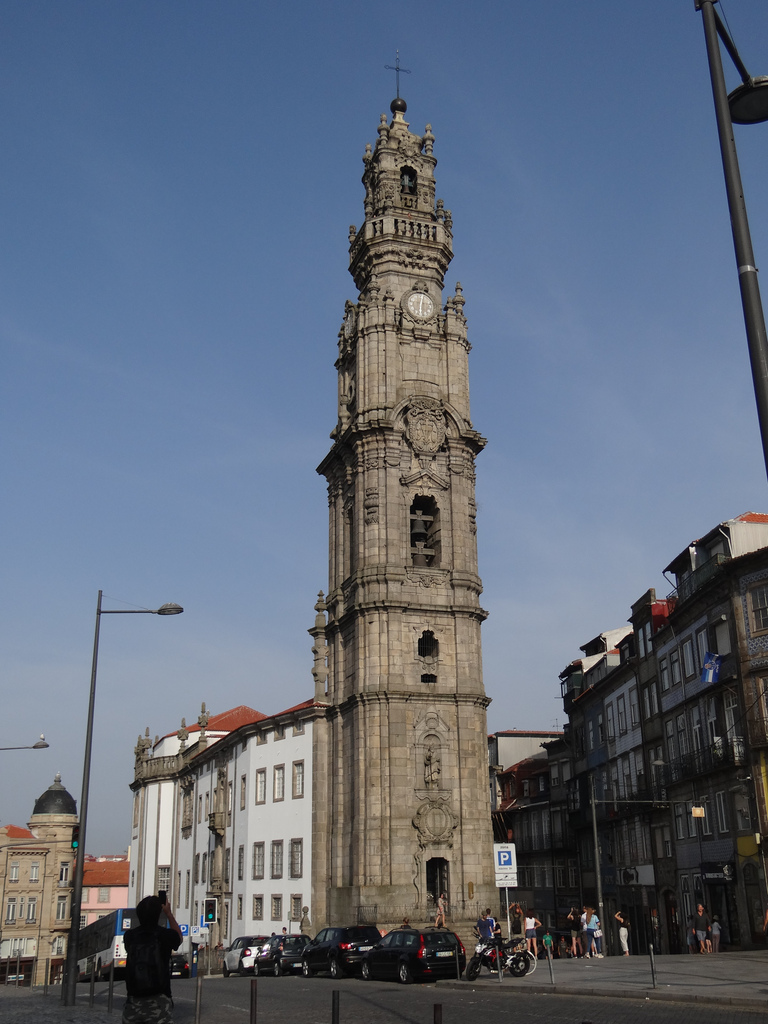clerigos: (304, 49, 510, 952)
